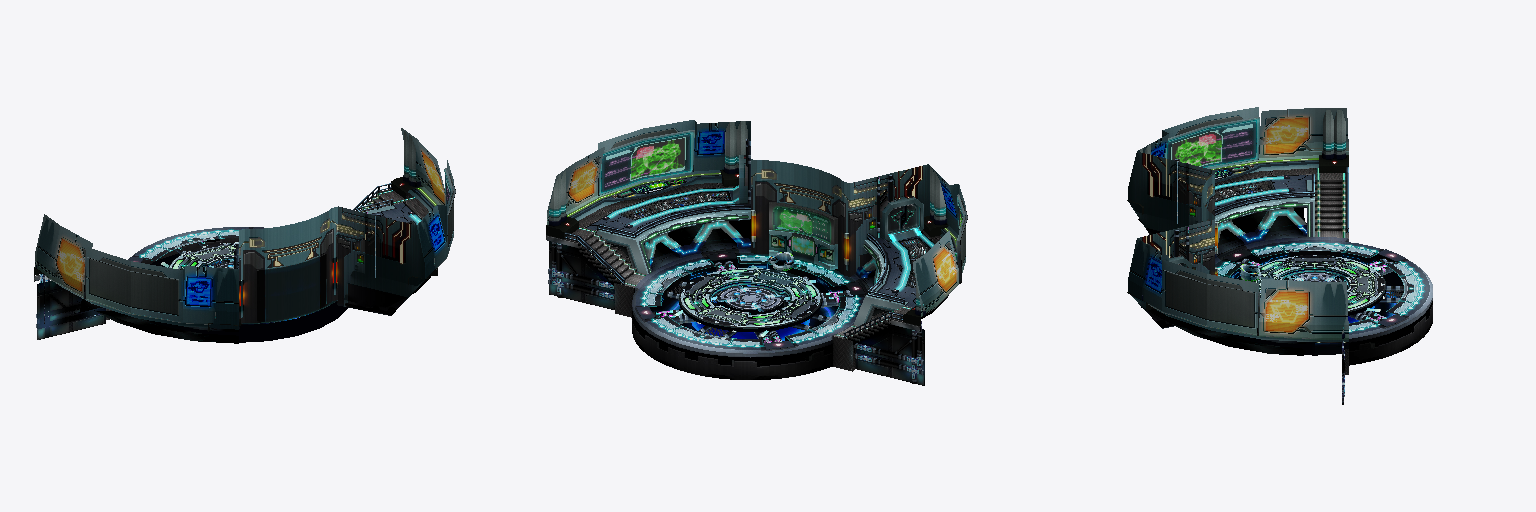
The picture shows the model from 3 angles: view 1: azimuth 30°, elevation 25°; view 2: azimuth 150°, elevation 25°; view 3: azimuth 270°, elevation 25°; orthographic projection.
Parts seen in each view (by area): view 1: mesh0000, mesh0010, mesh0007, mesh0003, mesh0004; view 2: mesh0000, mesh0007, mesh0010, mesh0004, mesh0003, mesh0001, mesh0005, mesh0002; view 3: mesh0000, mesh0007, mesh0010, mesh0008, mesh0003, mesh0001.
Part boxes in pixels (x1,y1,x2,y2): mesh0000: (128,206,424,342); mesh0010: (35,214,241,343); mesh0007: (337,128,453,294); mesh0003: (34,262,240,339); mesh0004: (361,131,437,284); mesh0000: (603,155,929,379); mesh0007: (547,120,755,284); mesh0010: (843,165,965,338); mesh0004: (546,121,747,317); mesh0003: (833,166,948,385); mesh0001: (548,139,923,383); mesh0005: (598,130,694,195); mesh0002: (624,192,928,336); mesh0000: (1128,152,1432,365); mesh0007: (1128,239,1348,355); mesh0010: (1137,107,1348,258); mesh0008: (1165,117,1259,167); mesh0003: (1127,110,1348,238); mesh0001: (1174,159,1403,404).
Bounding box in the file's own units: 34.92 × 10.84 × 24.54.
9 materials, 9 textured.